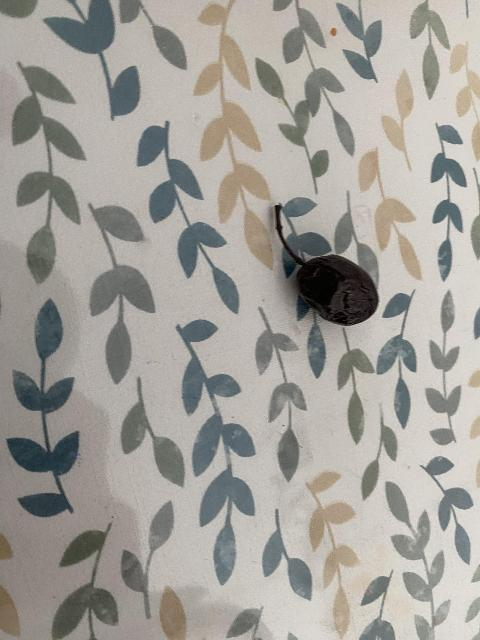Organik: (265, 203, 384, 327)
